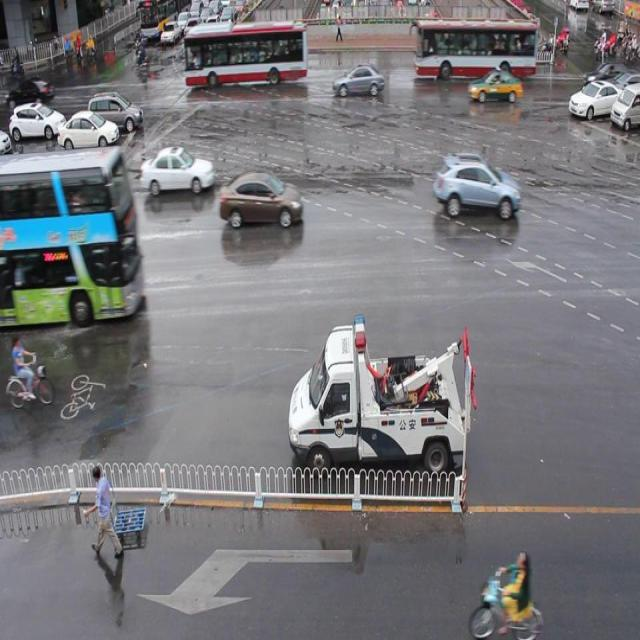car: (432, 152, 519, 217), (218, 170, 303, 226), (140, 146, 213, 194), (566, 78, 623, 118), (468, 69, 522, 104), (332, 64, 384, 98)
van: (1, 152, 144, 322), (183, 20, 306, 85), (412, 16, 536, 80)
